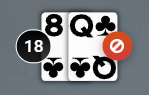8: (40, 12, 67, 38)
q: (66, 11, 97, 41)
